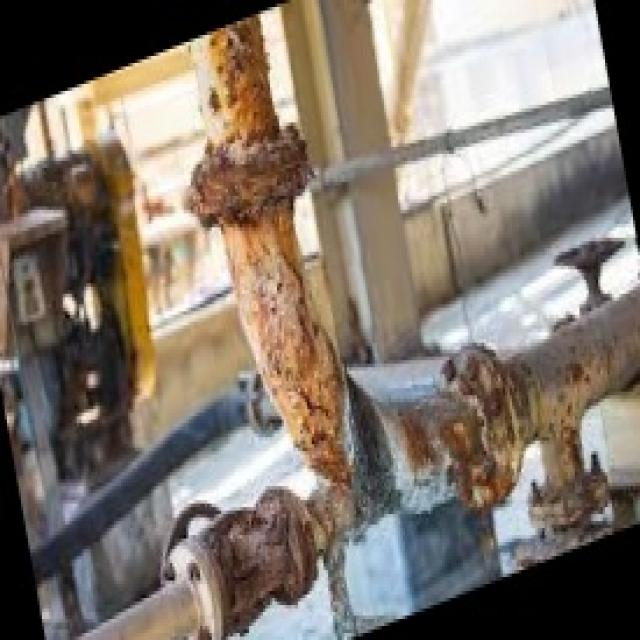rust: (191, 14, 333, 427), (438, 325, 594, 493), (179, 500, 317, 630)
